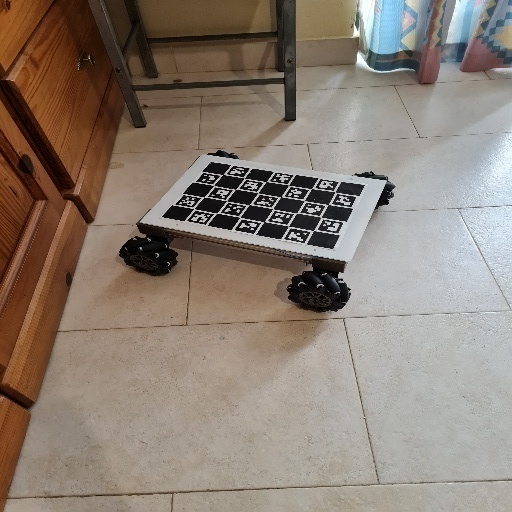Omniwheel: (120, 149, 397, 311)
